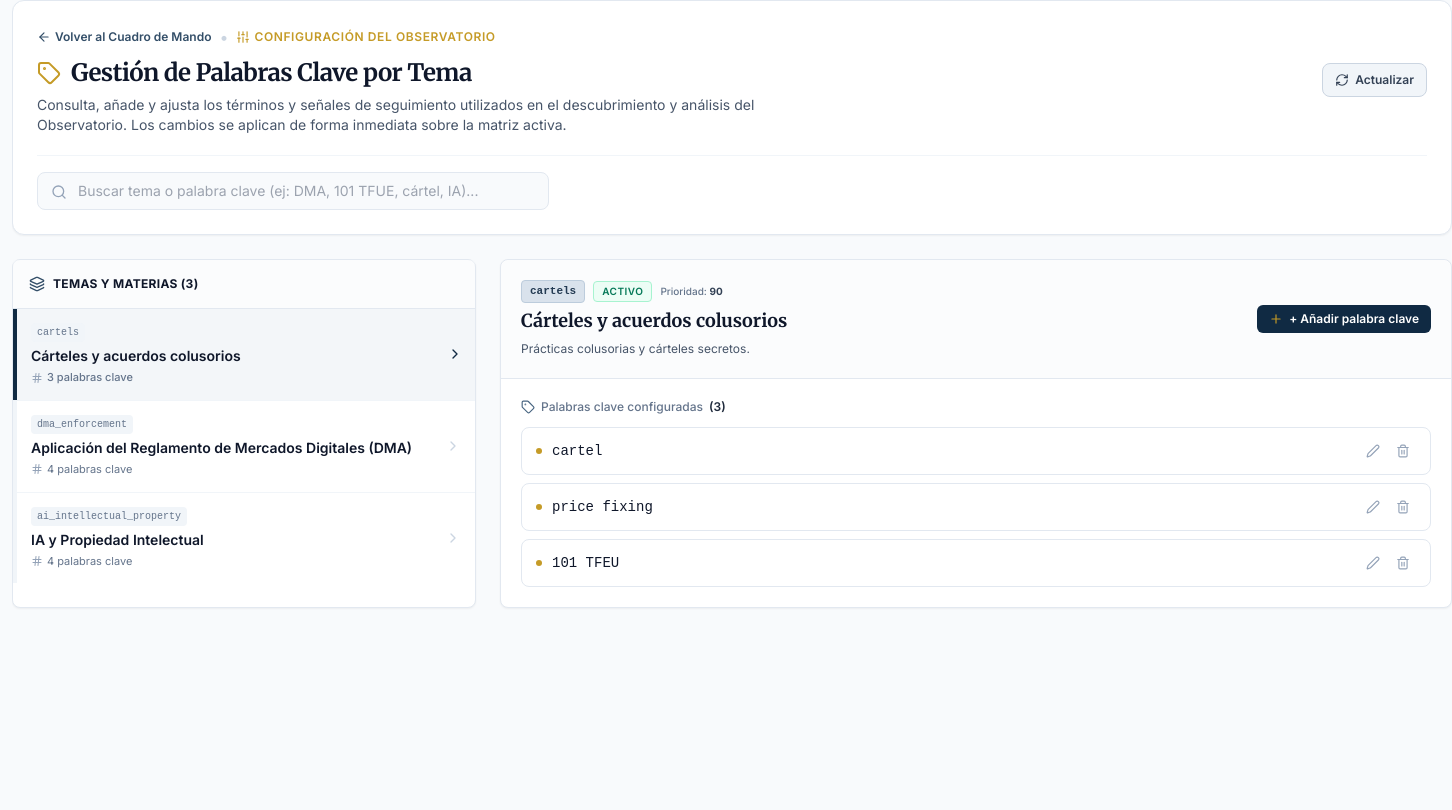
Scenario: Keyword Settings Management Interface › 4. Modificar una palabra clave existente y guardar con éxito
The width and height of the screenshot is (1452, 810).
Expected: the text "cartel" is shown, x1=552 y1=441 x2=602 y2=461
# Click edit on 'cartel'
Click the button named "editar cartel".
click(1373, 451)  # box x1=1360 y1=438 x2=1386 y2=464
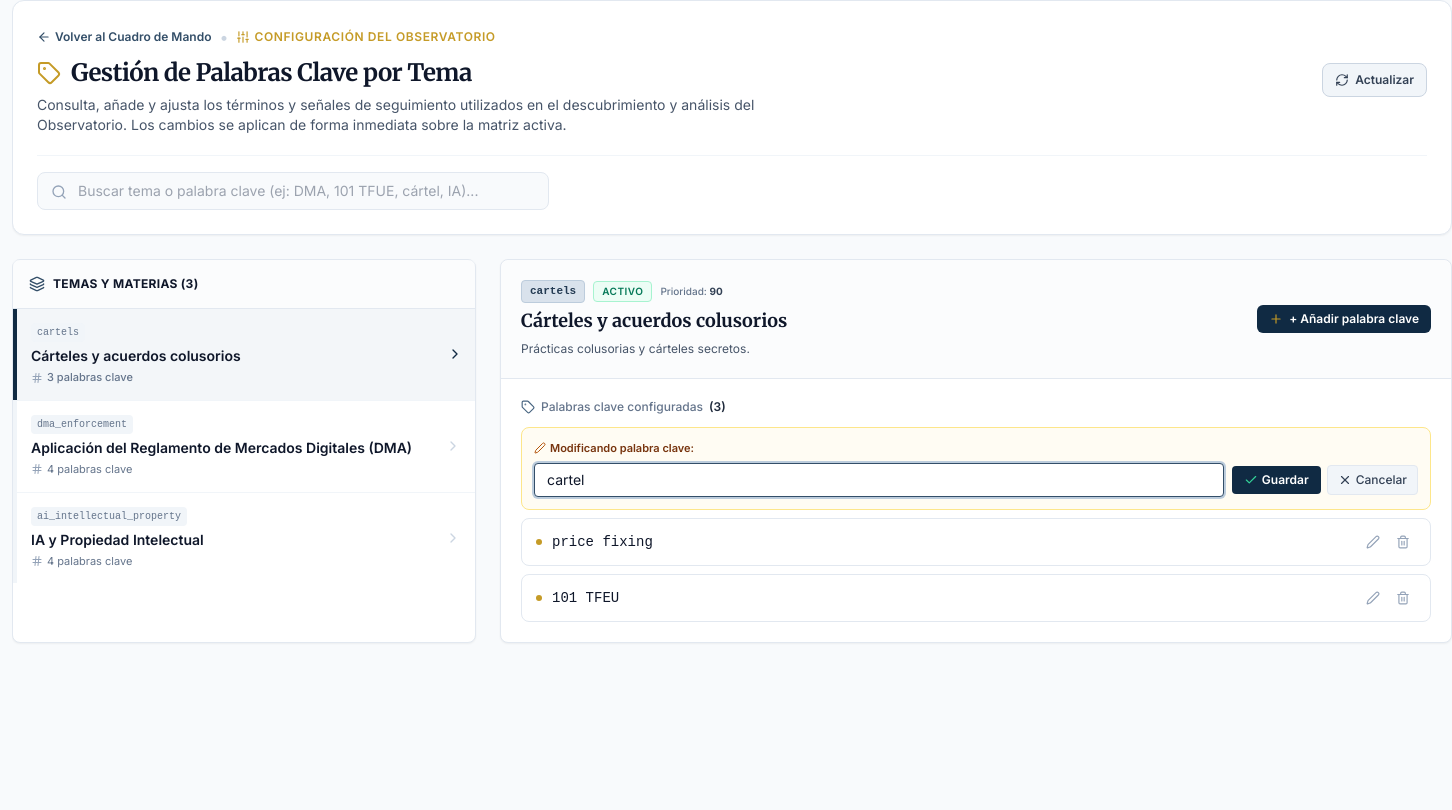
# Edit input with current value
Replace the text in the field showing "cartel" with "carteles secretos" at (879, 480), box x1=534 y1=462 x2=1224 y2=496
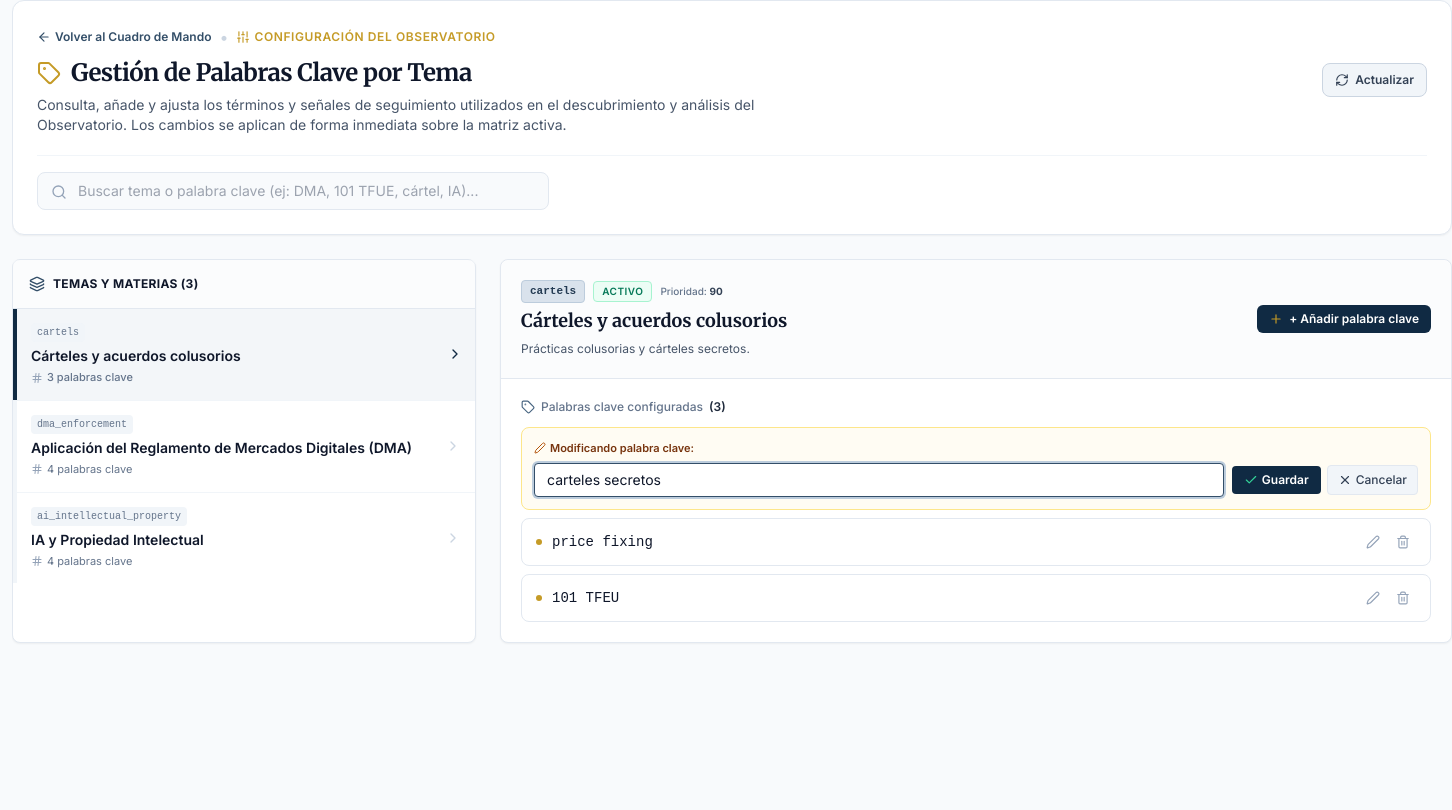
Click the button "Guardar".
click(1276, 480)  # box x1=1232 y1=466 x2=1321 y2=494
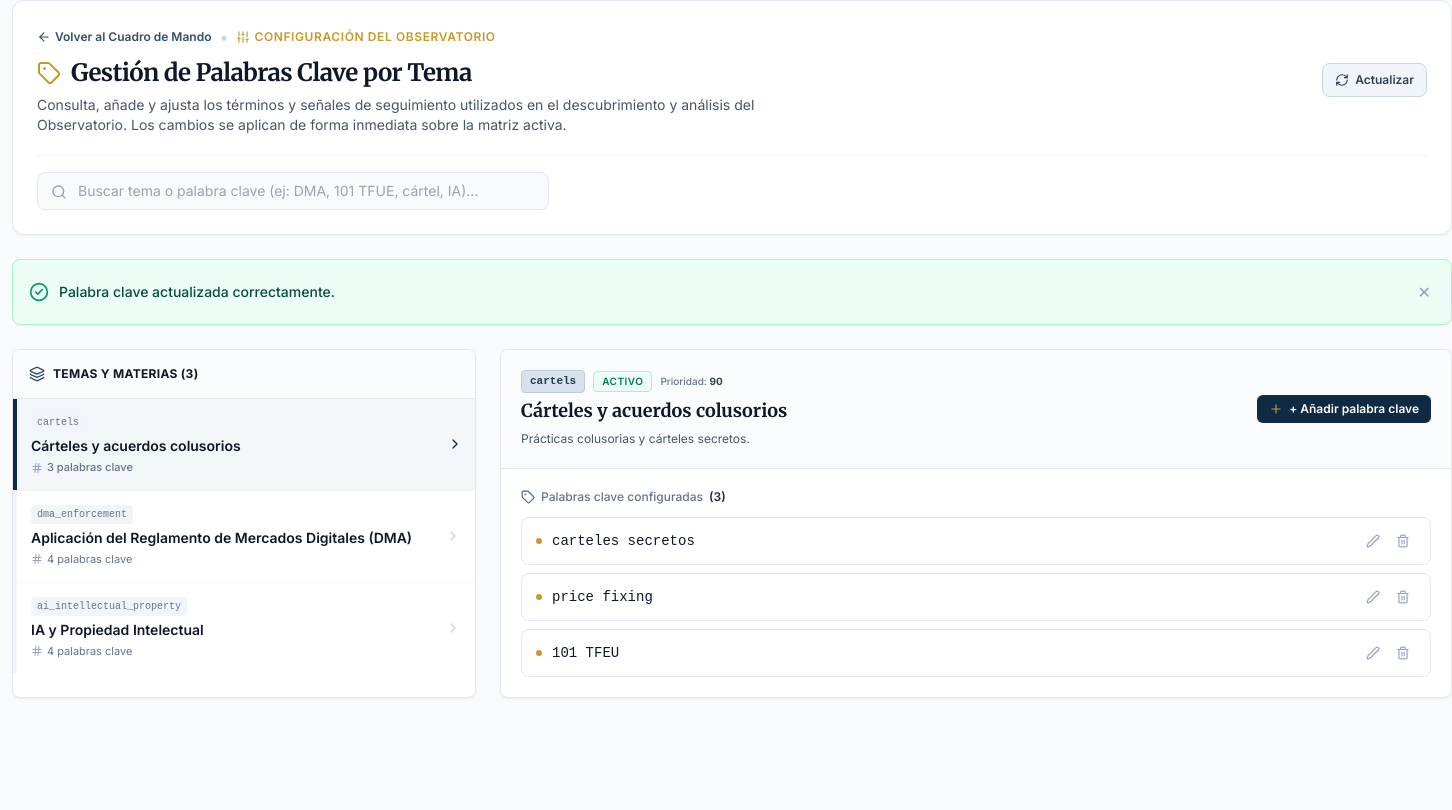
Result: the text "Palabra clave actualizada correctamente." is shown at x1=59 y1=282 x2=335 y2=302
Result: the text "carteles secretos" is shown at x1=552 y1=531 x2=695 y2=551
